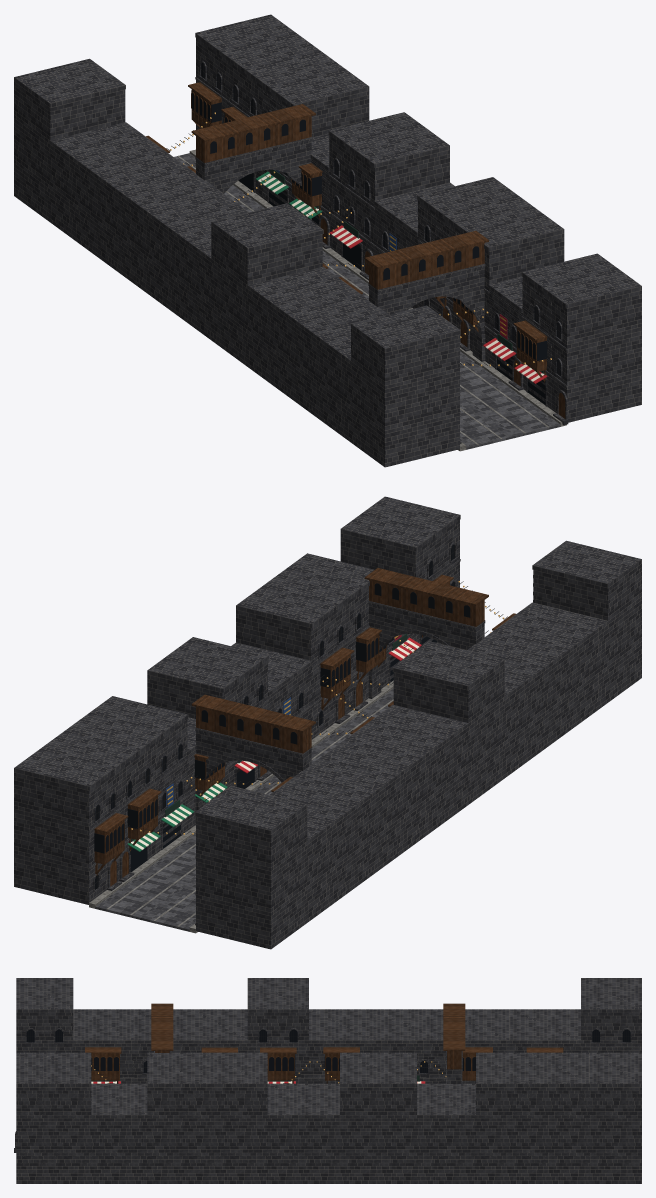
Rendered from DiyarbakirStreet.fbx.
The picture shows the model from 3 angles, top to bottom: view 1: azimuth 30°, elevation 25°; view 2: azimuth 150°, elevation 25°; view 3: azimuth 270°, elevation 25°; orthographic projection. The views are drawn at different scales.
Visible parts, largest first — view 1: Street_Houses, Street_Arches, Street_Floor; view 2: Street_Houses, Street_Arches, Street_Floor; view 3: Street_Houses, Street_Arches.
Boxes of the visible parts, <box> form: Street_Houses: <box>14,14,641,467</box>; Street_Arches: <box>191,104,488,361</box>; Street_Floor: <box>174,149,566,451</box>; Street_Houses: <box>14,496,641,949</box>; Street_Arches: <box>191,568,488,810</box>; Street_Floor: <box>89,680,393,933</box>; Street_Houses: <box>14,978,641,1183</box>; Street_Arches: <box>151,1003,465,1083</box>.
Size of the model in its own units: 24 by 11.25 by 60.23.
